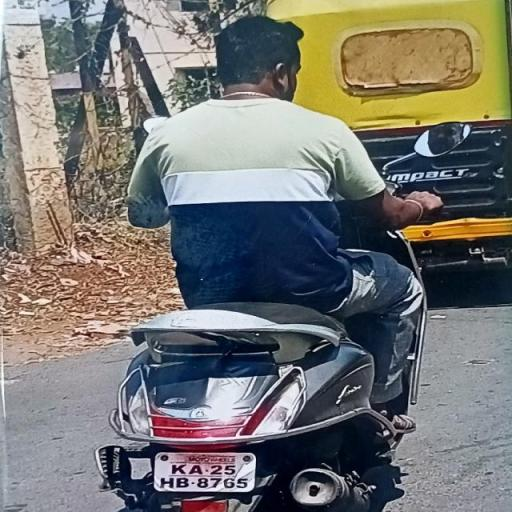bike: (76, 8, 450, 512)
numberplate: (152, 452, 256, 493)
withouthelmet: (219, 17, 303, 94)
